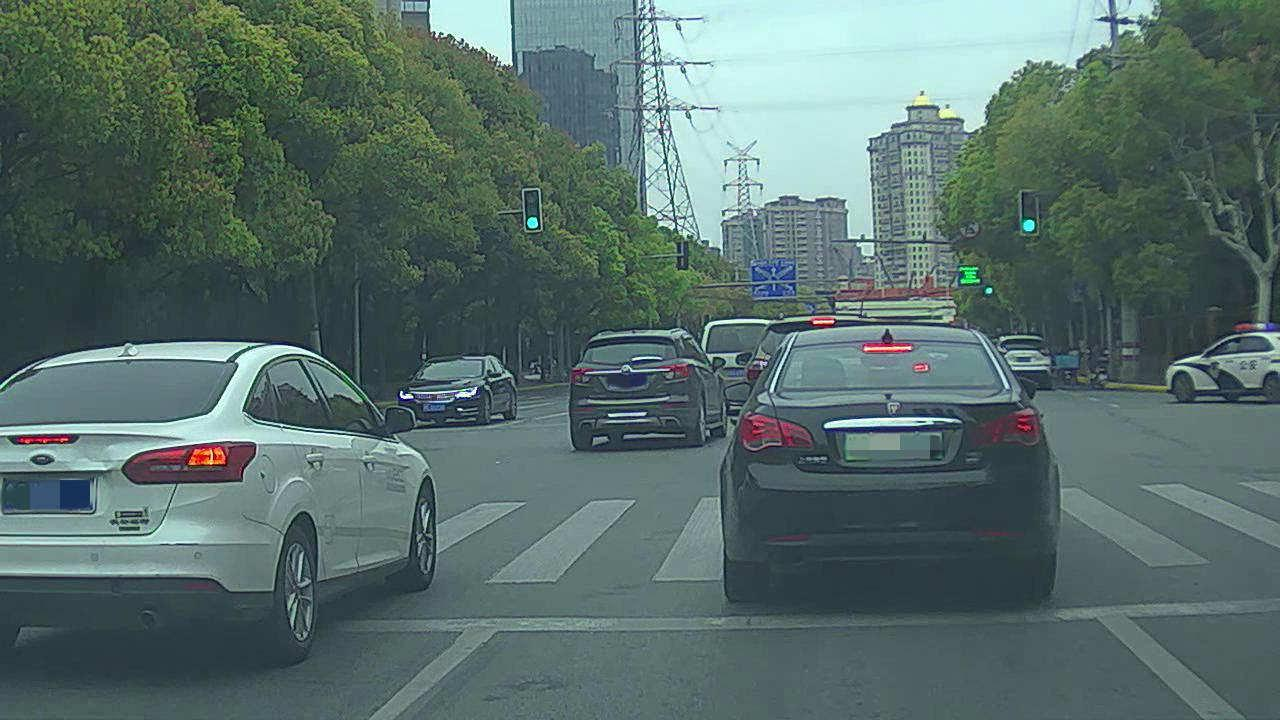traffic_light: (521, 184, 544, 234), (1016, 191, 1040, 234)
